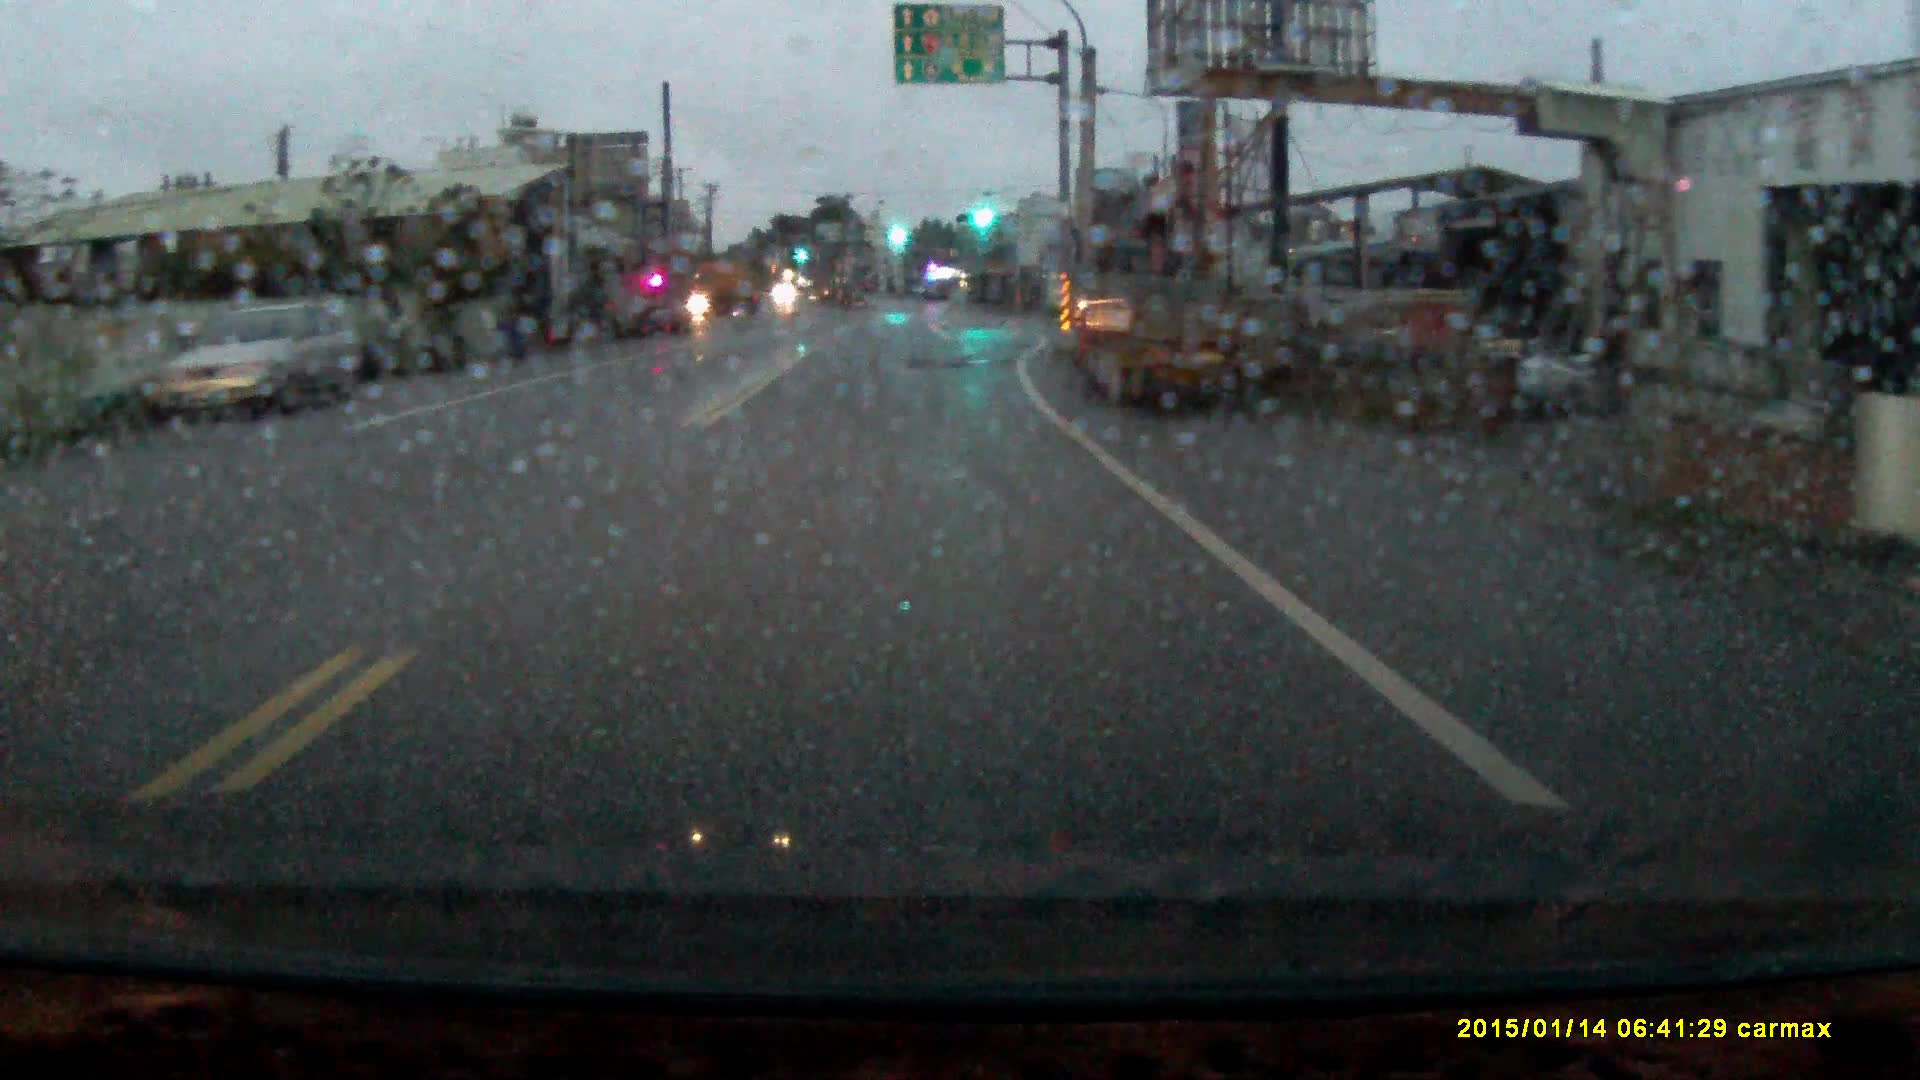vehicle: (1063, 235, 1274, 421), (150, 301, 359, 422), (678, 261, 762, 322)
